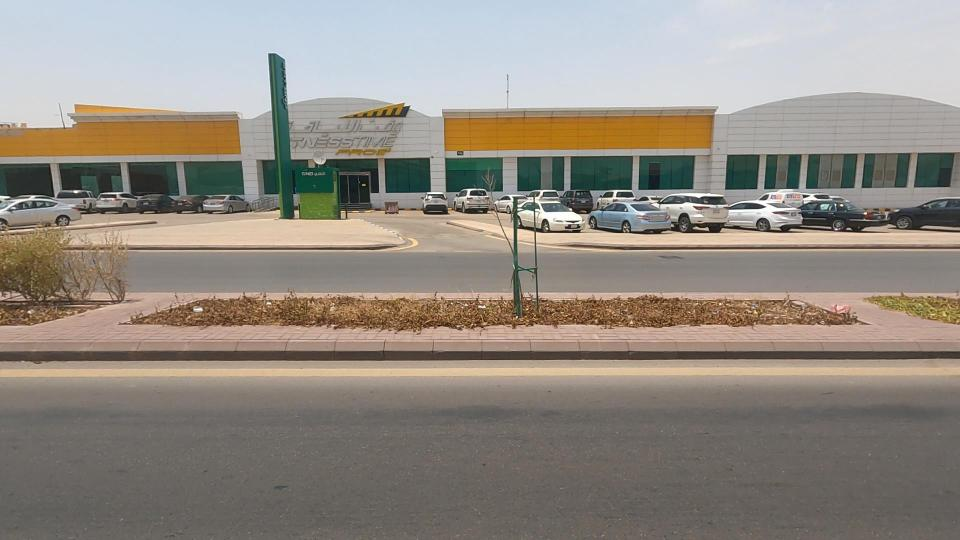GARBAGE: (436, 283, 518, 336), (167, 285, 231, 329)
